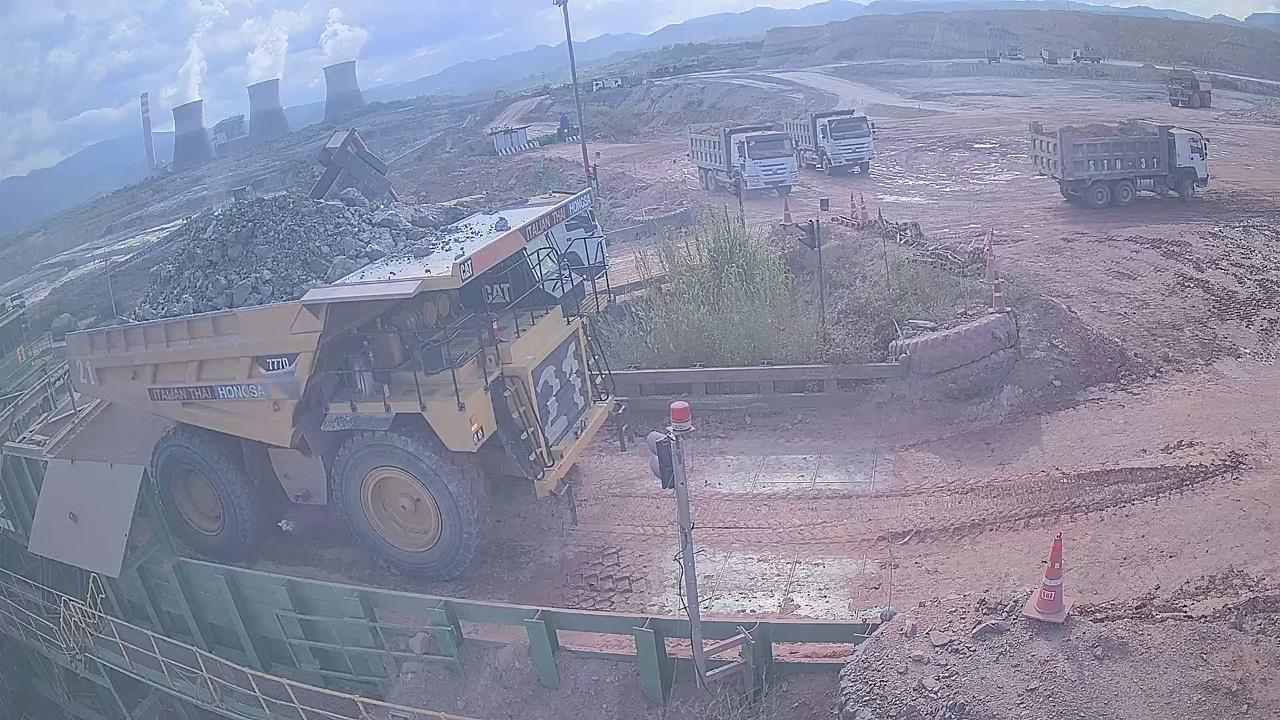company: (142, 383, 278, 404)
front_number: (522, 326, 597, 448)
full_load: (106, 190, 424, 321)
mining_truck: (61, 183, 630, 581)
tail_number: (71, 357, 104, 392)
truck_size: (252, 350, 301, 376)
